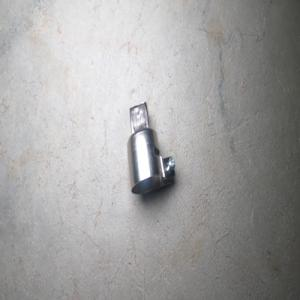MetalPart: (126, 100, 176, 195)
